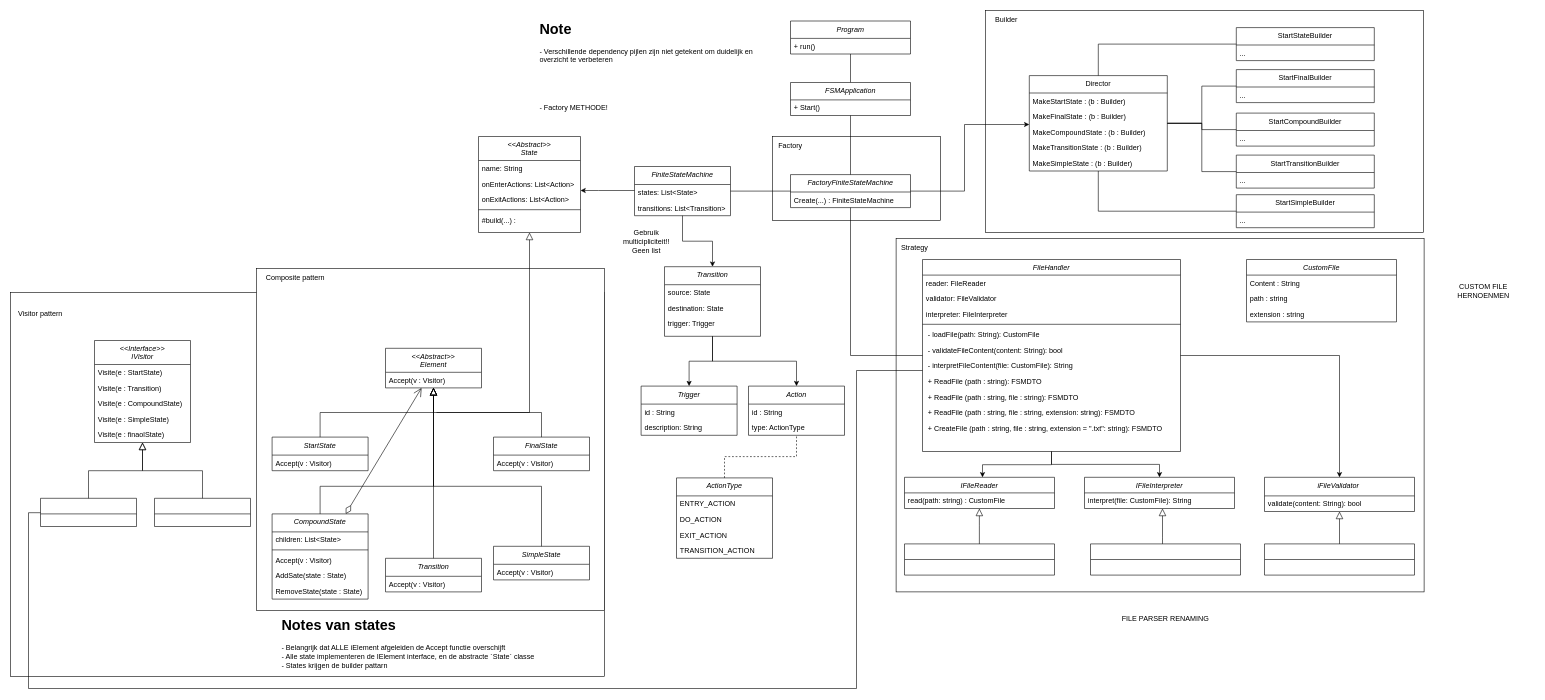
This 1545x700 diagram has some shape labels left out. Each missing label, with the centre of its shape:
FileInterpreter: the point at 1165,559
FileValidator: the point at 1339,559
GraphicalVisitor: the point at 202,512
TextFileReader: the point at 979,559
TextVisitor: the point at 88,512
